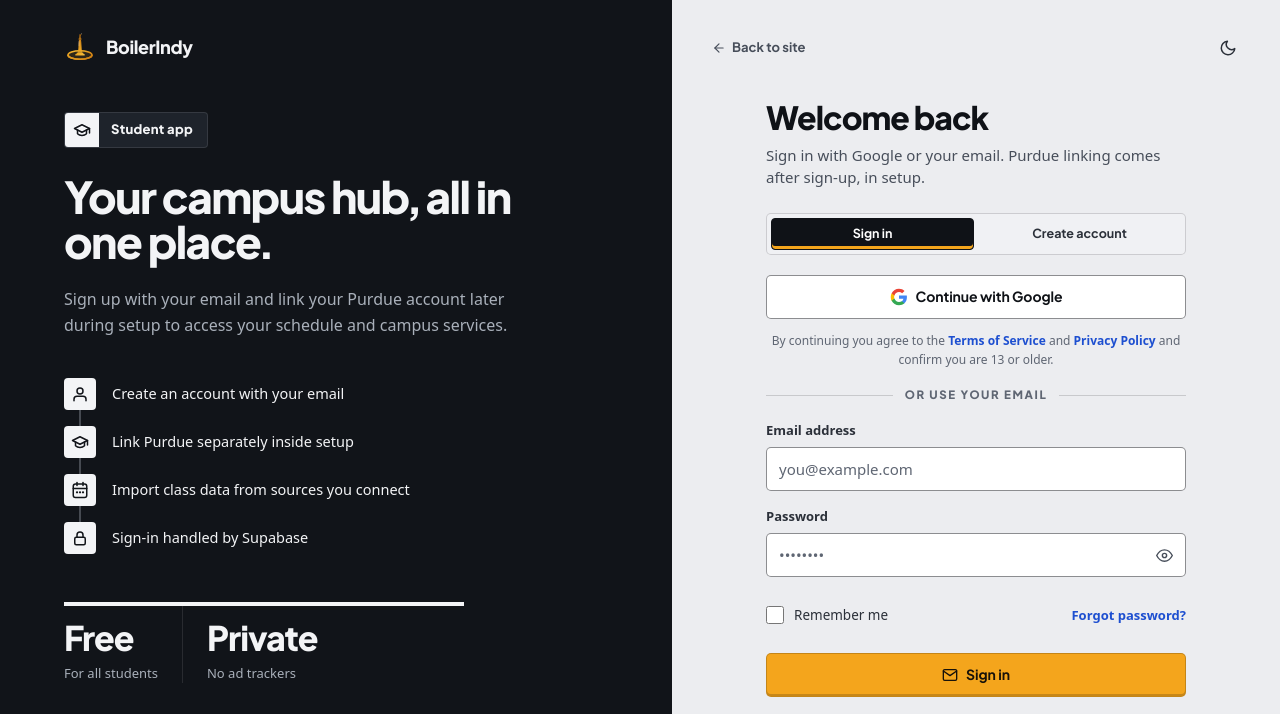
Login: while the session check is out › a sign-in sent while the server wakes says why it is slow
The width and height of the screenshot is (1280, 714).
Type "student@purdue.edu" into the field with id "email" at (976, 469), box [766,447,1186,491]
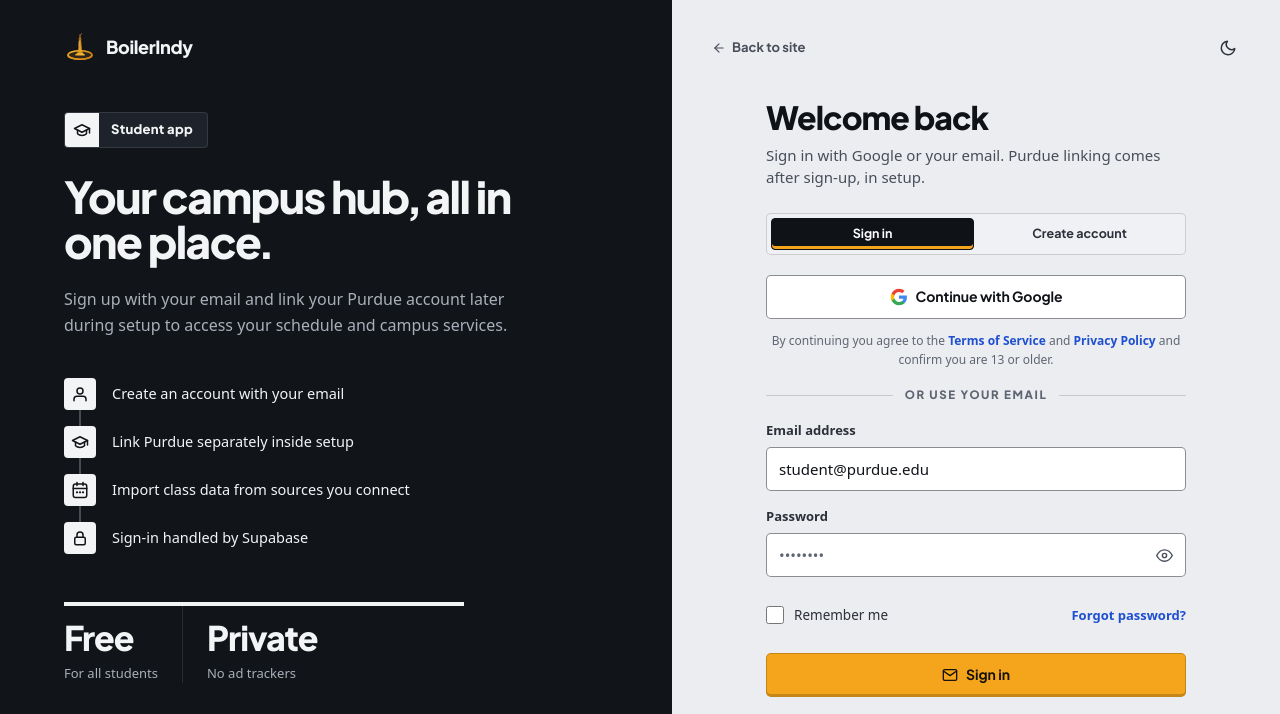
Type "correct-horse-battery" into the password field labelled "Password" at (976, 555), box [766,533,1186,577]
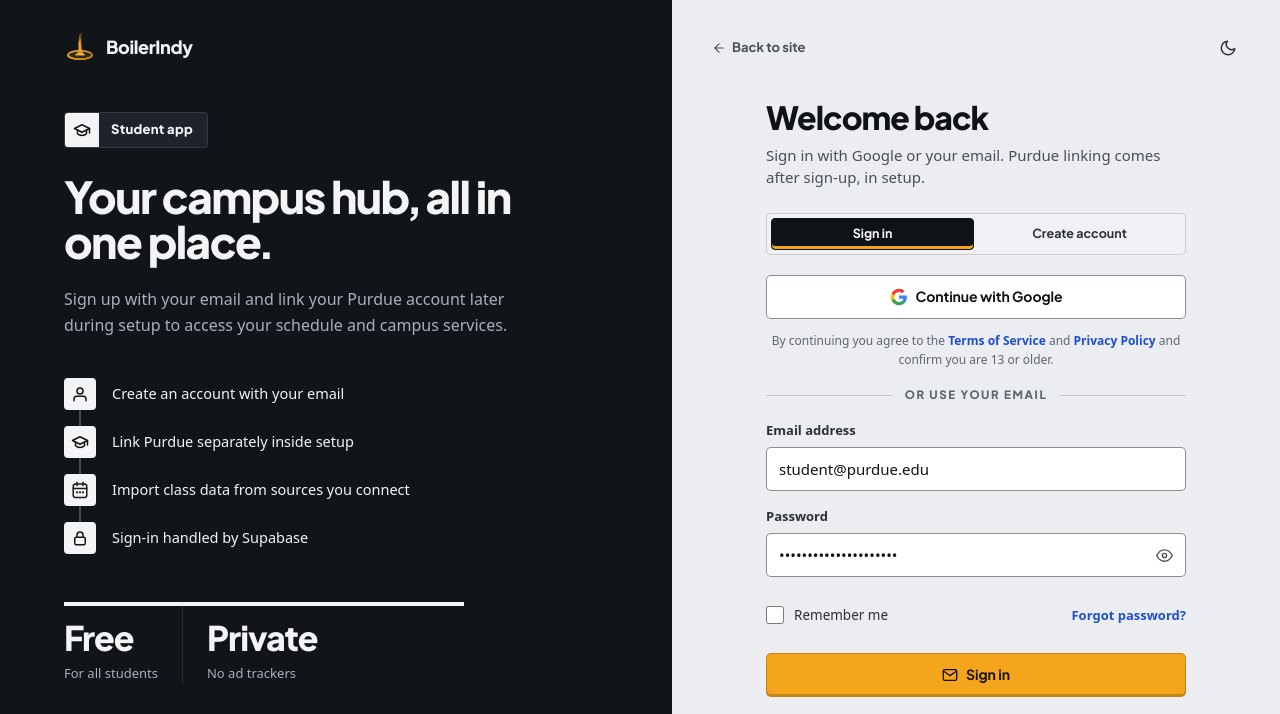
Click the submit button at (976, 675), box [766,653,1186,697]
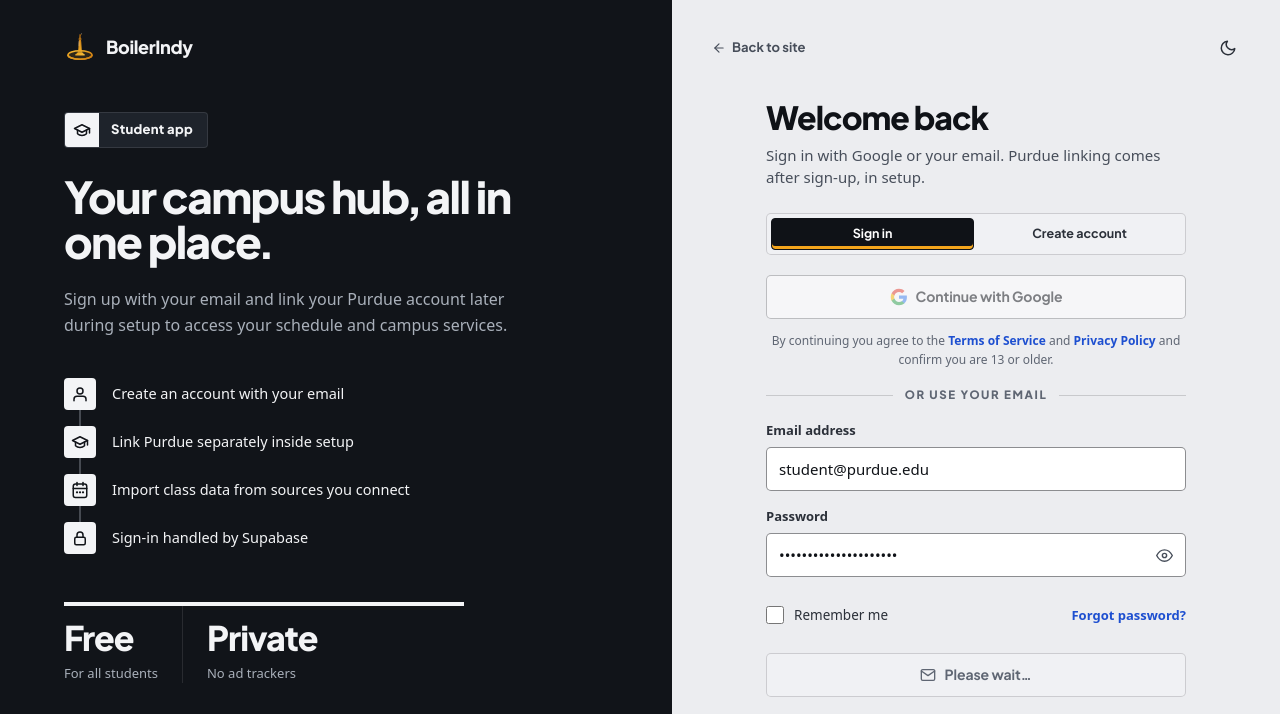
Result: the submit button reads "Please wait…" at [766,653,1186,697]
